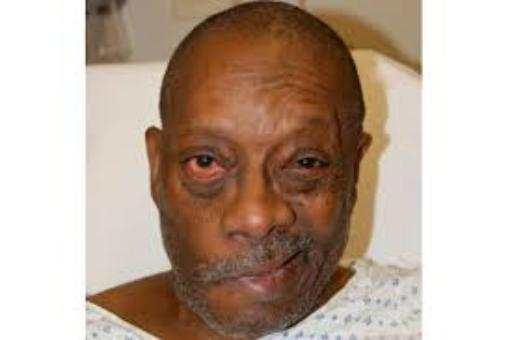left_eye: (281, 155, 335, 173)
left_lip_corner: (291, 248, 307, 260)
right_eye: (183, 153, 230, 172)
right_lip_corner: (231, 272, 250, 287)
